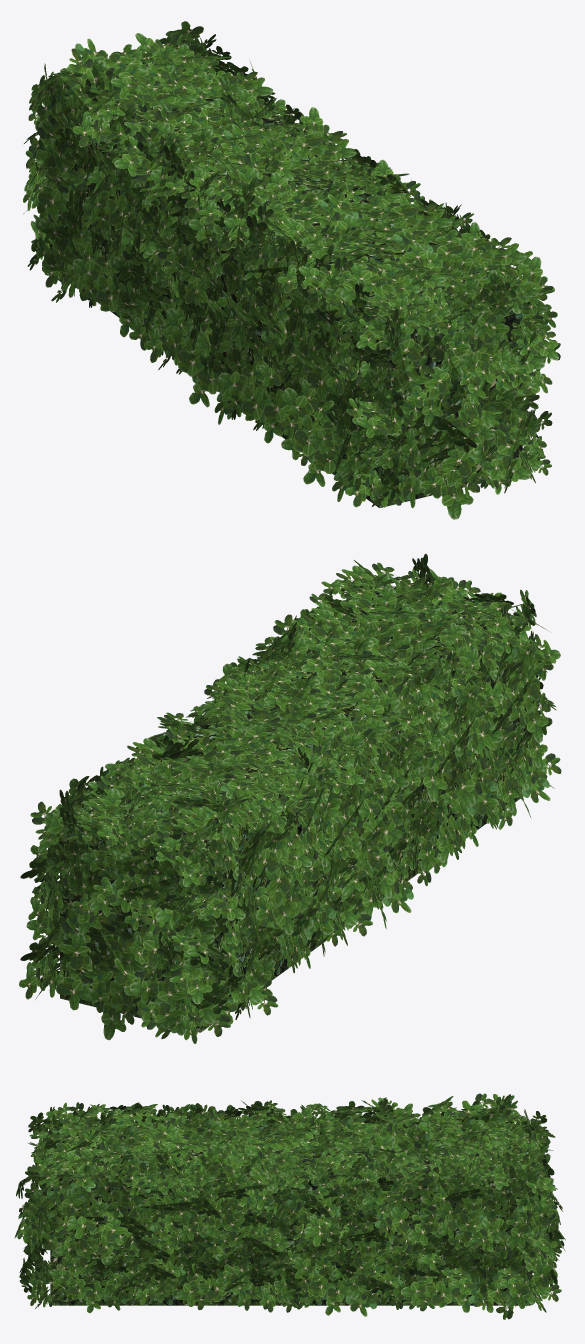
File: hedge_01_2m.FBX
3 renders of one model, top to bottom at view 1: azimuth 30°, elevation 25°; view 2: azimuth 150°, elevation 25°; view 3: azimuth 270°, elevation 25°, orthographic. The views are drawn at different scales.
Parts seen in each view (by area): view 1: hedge_01_2m; view 2: hedge_01_2m; view 3: hedge_01_2m.
Part boxes in pixels (<box>): hedge_01_2m: <box>23,21,560,519</box>; hedge_01_2m: <box>19,553,561,1043</box>; hedge_01_2m: <box>14,1093,565,1319</box>.
Size of the model in its own units: 84.7 by 89.56 by 232.
